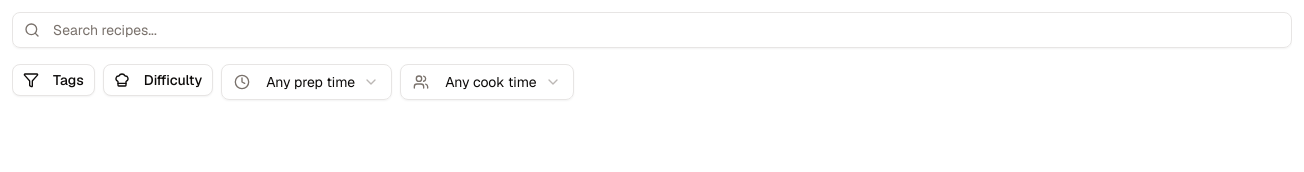
SearchAndFilter › clears search query when X button is clicked
Type "pasta" into the field with placeholder "Search recipes..." at (652, 30), box top-left (12, 12), bottom-right (1292, 48)
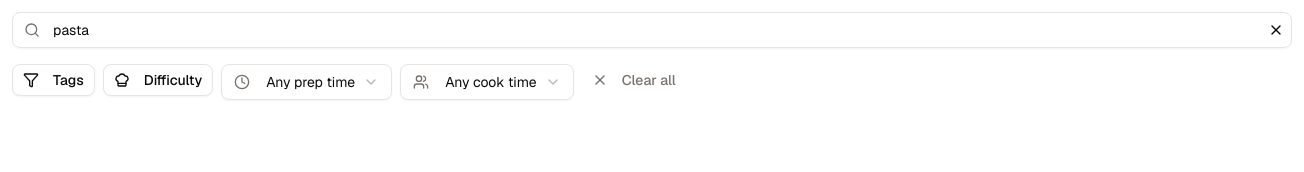
// Wait for clear button to appear
Click the button named "clear search" at (1276, 30), box top-left (1264, 18), bottom-right (1288, 42)
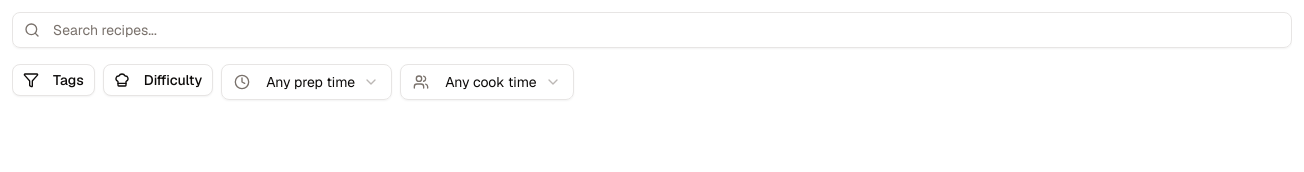
expect the field with placeholder "Search recipes..." is empty: met, box top-left (12, 12), bottom-right (1292, 48)
